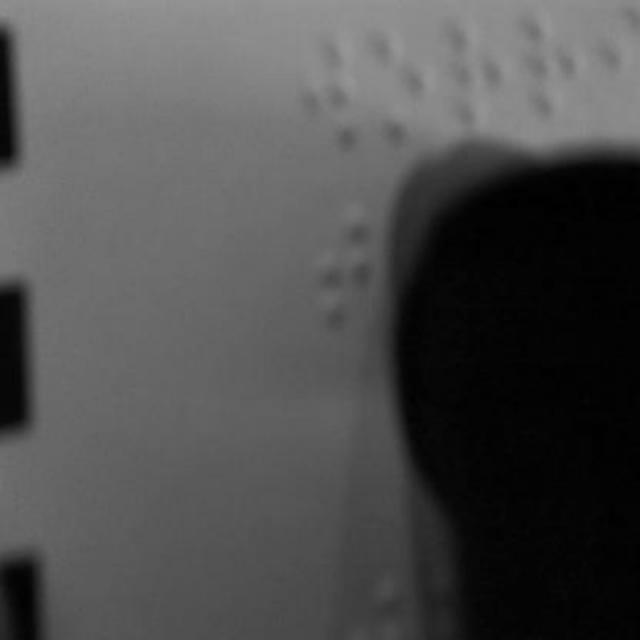braiile: (520, 0, 592, 136), (368, 22, 442, 152), (301, 18, 365, 158), (318, 192, 380, 332), (448, 5, 512, 140)
